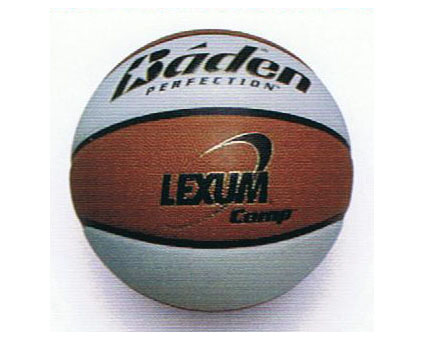basketball: (70, 28, 354, 313)
